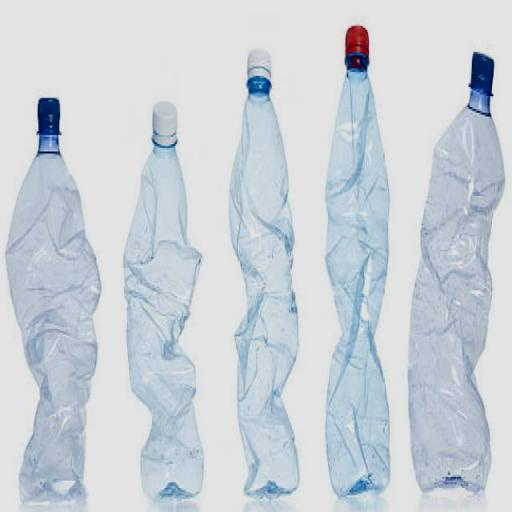bottle: (409, 52, 504, 491), (6, 98, 100, 502), (124, 102, 203, 500), (230, 51, 298, 497), (326, 26, 389, 495)
